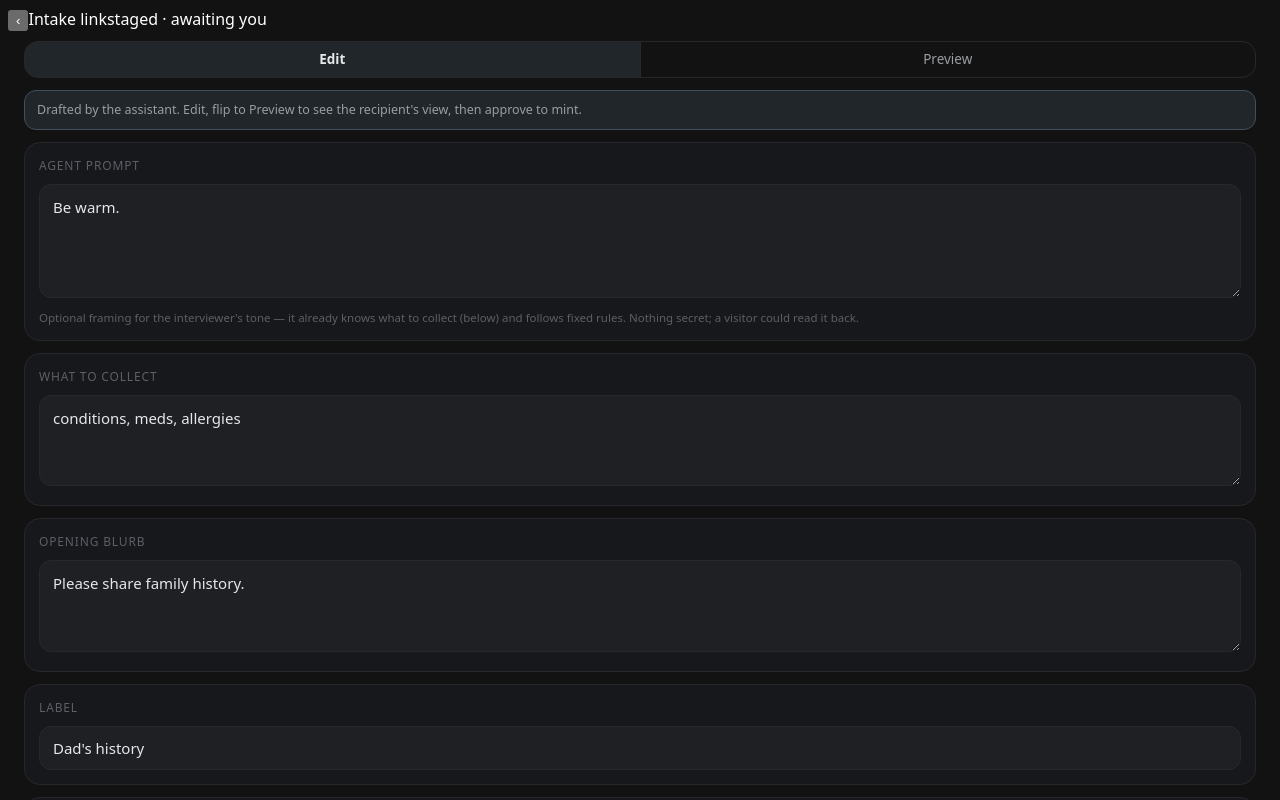
it: IntakeLinkProposalEditor › seeds the form from the staged config and previews the recipient view
The width and height of the screenshot is (1280, 800).
Replace the text in the text box labelled "Opening blurb" with "New blurb for the recipient.": (640, 606) [39,560,1241,652]
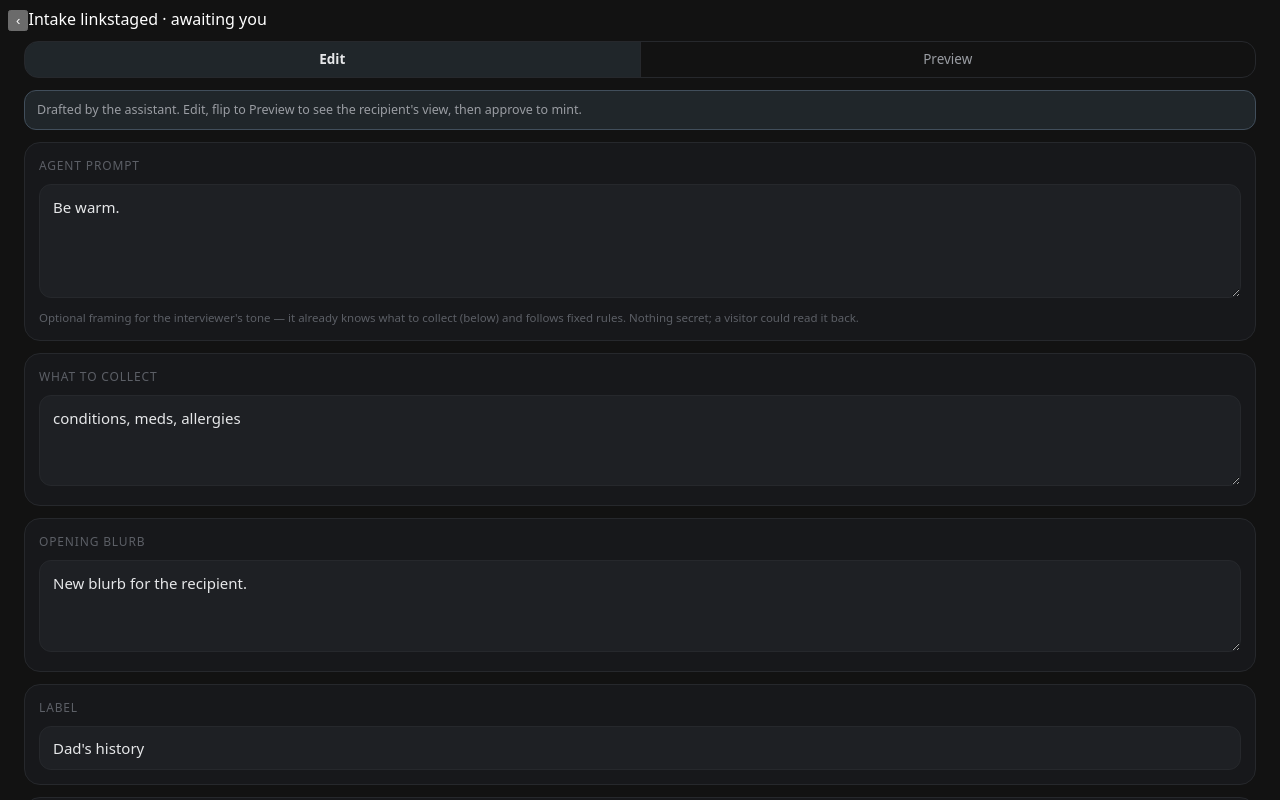
Click the tab "Preview": (947, 59) [640,42,1255,77]
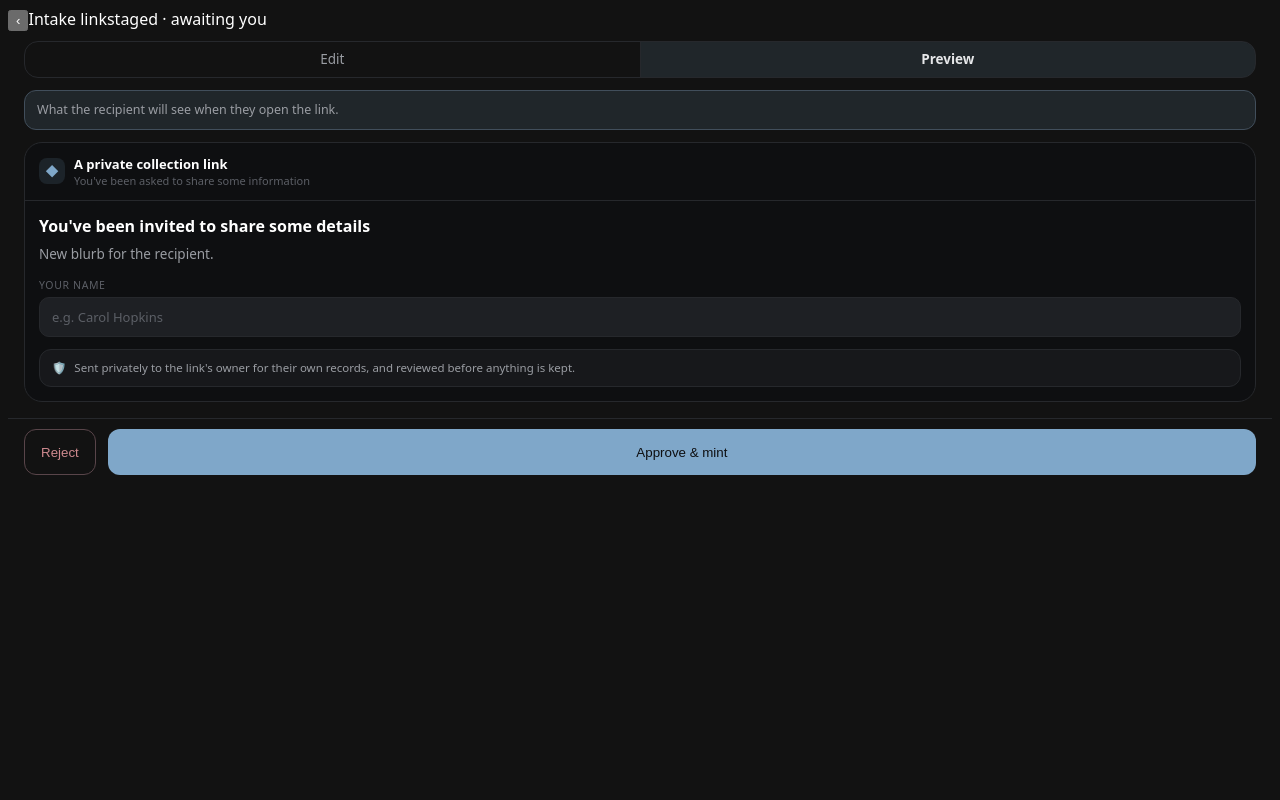
Now the text "New blurb for the recipient." is shown, box [39,245,214,263]
